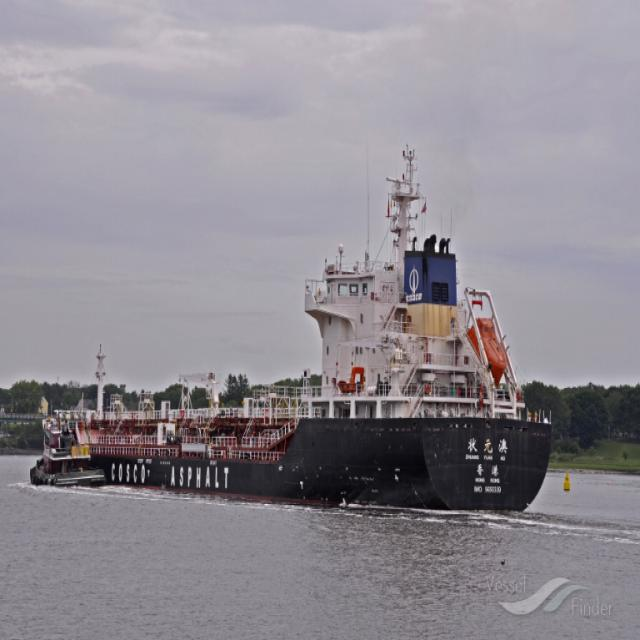OCR: (92, 451, 239, 496), (458, 428, 514, 499)
